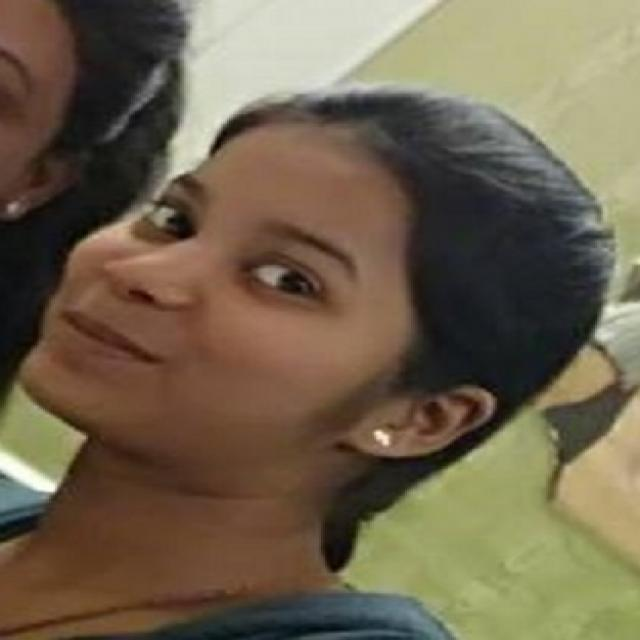Nonhelmet: (9, 70, 619, 532)
